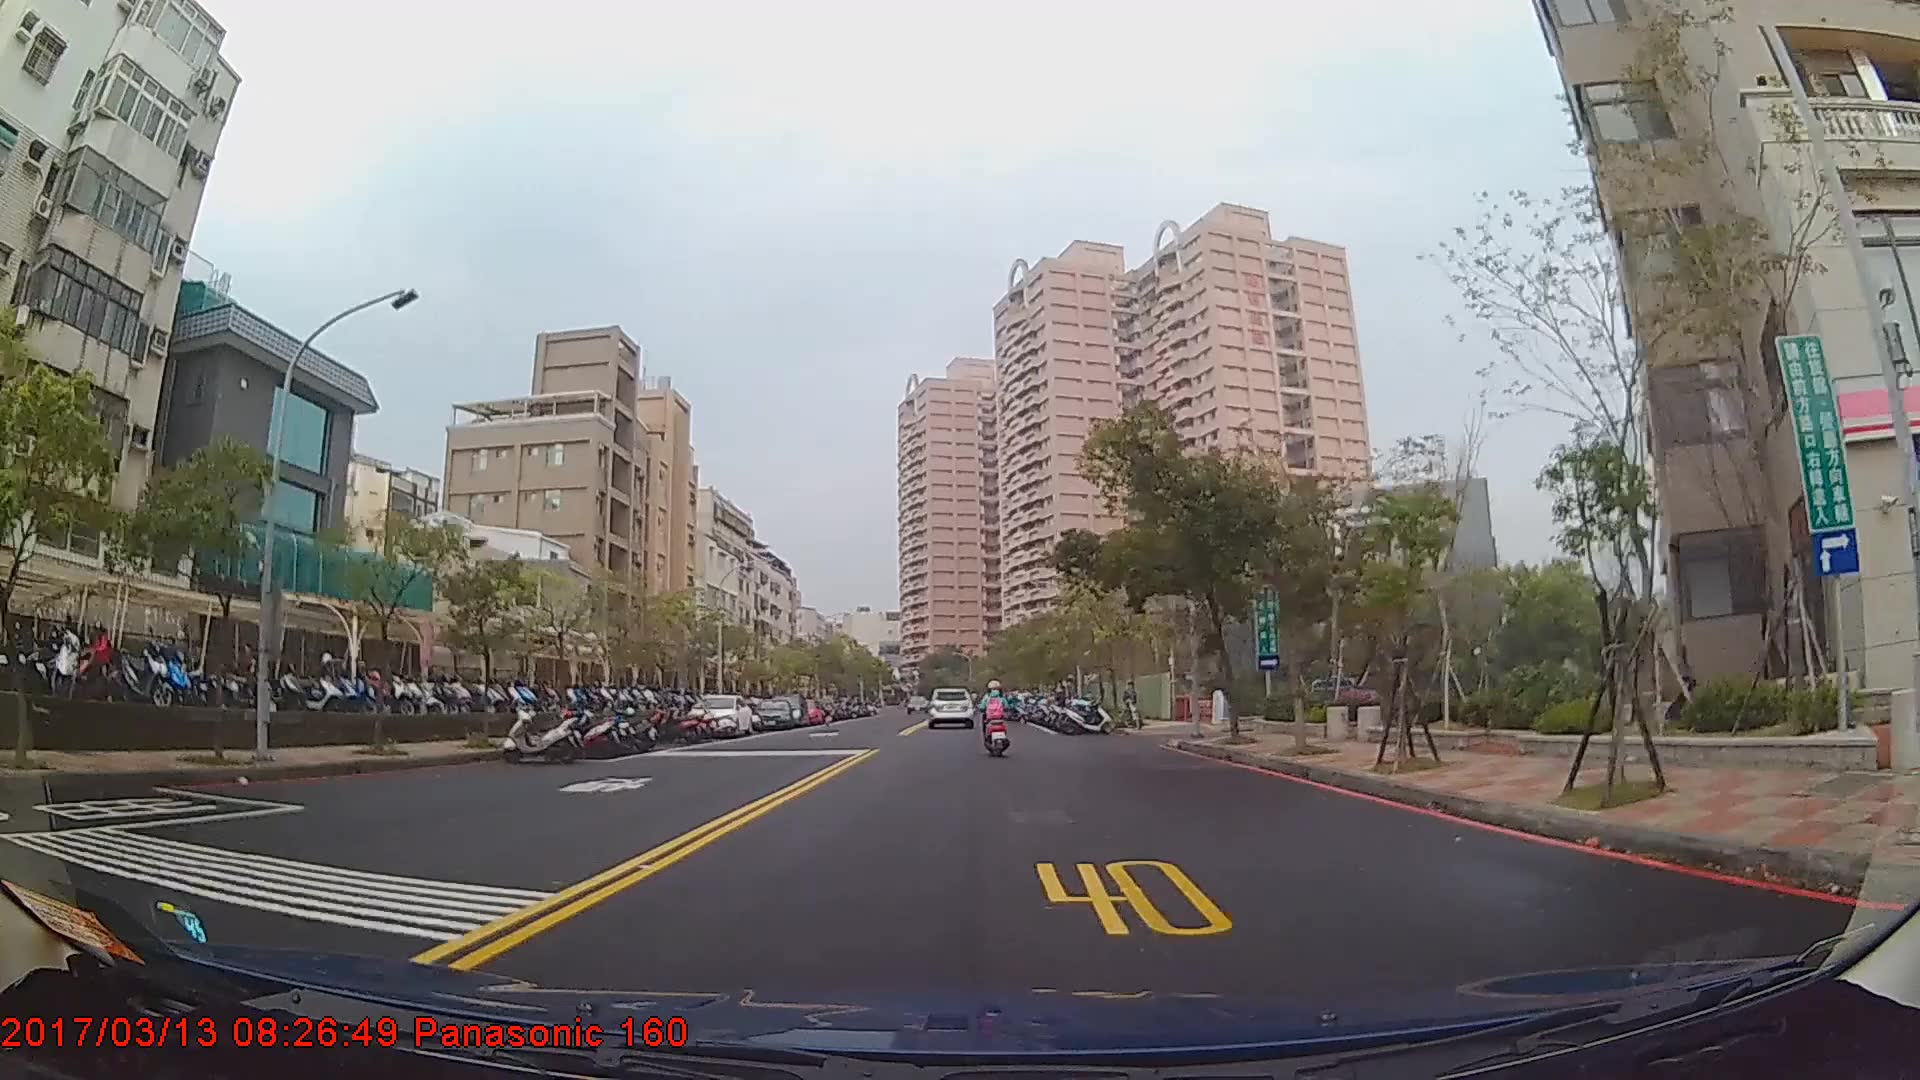pedestrian: (1121, 680, 1141, 725)
rider: (978, 679, 1011, 755)
vehicle: (689, 692, 752, 738), (924, 686, 975, 731), (748, 696, 794, 733)
